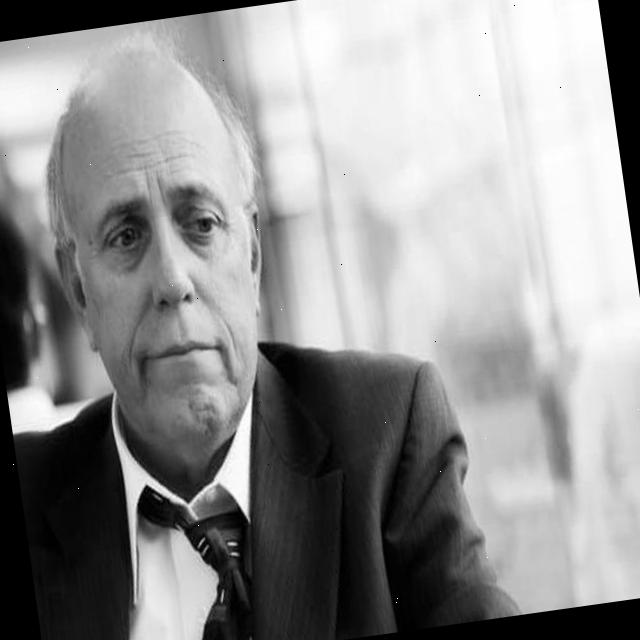Sadness: (61, 84, 271, 462)
